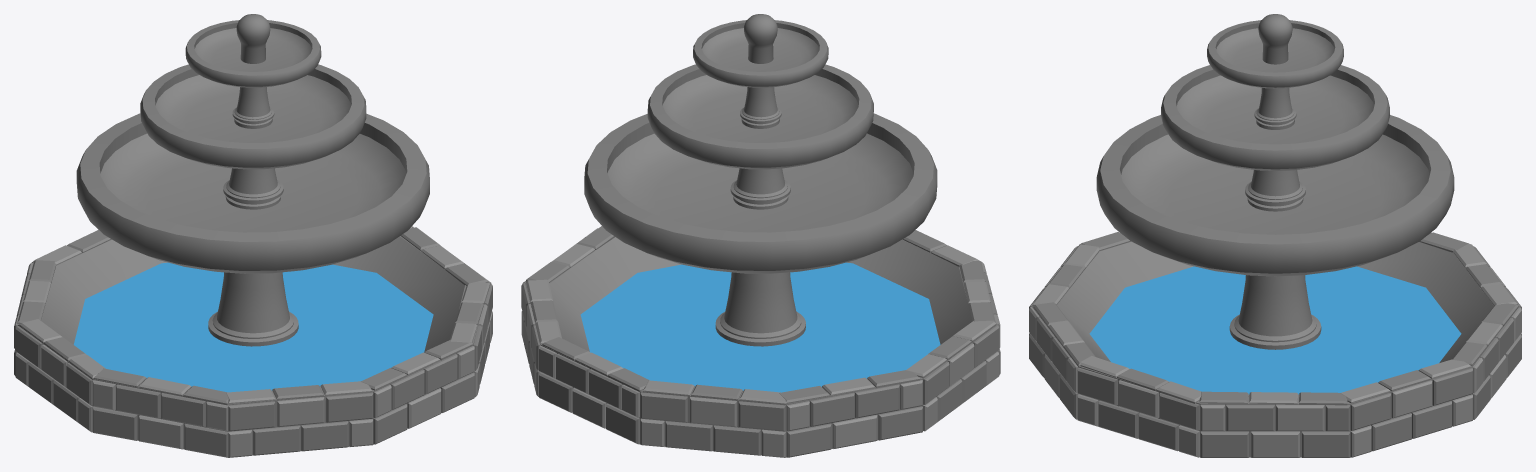
The model's file is Fountain.fbx.
3 renders of one model, left to right at view 1: azimuth 30°, elevation 25°; view 2: azimuth 150°, elevation 25°; view 3: azimuth 270°, elevation 25°, orthographic.
Parts seen in each view (by area): view 1: Cylinder.002, Circle, Cylinder.003, Cylinder, Cylinder.004, Cylinder.001, Cylinder.006, Cylinder.005, Cube.067, Cube.066, Cube.064, Cube.063 (+41 smaller); view 2: Cylinder.002, Circle, Cylinder.003, Cylinder, Cylinder.004, Cylinder.001, Cylinder.006, Cylinder.005, Cube.051, Cube.049, Cube.052, Cube.053 (+40 smaller); view 3: Cylinder.002, Circle, Cylinder.003, Cylinder, Cylinder.004, Cylinder.001, Cylinder.006, Cylinder.005, Cube.004, Cube.003, Cube, Cube.001 (+35 smaller).
Boxes of the visible parts, x1,y1,x2,y2 form: Cylinder.002: [76, 113, 429, 273]; Circle: [73, 262, 433, 392]; Cylinder.003: [140, 64, 366, 169]; Cylinder: [18, 236, 488, 455]; Cylinder.004: [185, 20, 321, 87]; Cylinder.001: [208, 272, 298, 346]; Cylinder.006: [232, 14, 274, 128]; Cylinder.005: [223, 168, 283, 209]; Cube.067: [301, 421, 348, 451]; Cube.066: [253, 425, 300, 455]; Cube.064: [277, 397, 324, 426]; Cube.063: [228, 401, 275, 431]; Cylinder.002: [584, 113, 937, 273]; Circle: [580, 262, 940, 392]; Cylinder.003: [647, 64, 873, 169]; Cylinder: [525, 237, 995, 457]; Cylinder.004: [693, 20, 828, 87]; Cylinder.001: [715, 272, 805, 346]; Cylinder.006: [740, 14, 781, 128]; Cylinder.005: [730, 168, 790, 209]; Cube.051: [738, 401, 786, 431]; Cube.049: [640, 392, 687, 422]; Cube.052: [665, 421, 712, 451]; Cube.053: [713, 425, 760, 455]; Cylinder.002: [1096, 115, 1454, 276]; Circle: [1089, 266, 1461, 394]; Cylinder.003: [1161, 65, 1389, 170]; Cylinder: [1032, 241, 1503, 457]; Cylinder.004: [1207, 20, 1343, 88]; Cylinder.001: [1229, 275, 1321, 349]; Cylinder.006: [1254, 14, 1296, 129]; Cylinder.005: [1245, 170, 1305, 211]; Cube.004: [1226, 404, 1274, 431]; Cube.003: [1276, 404, 1324, 431]; Cube: [1200, 431, 1248, 457]; Cube.001: [1251, 431, 1299, 457].
Bounding box in the file's own units: 320 × 257 × 334.
